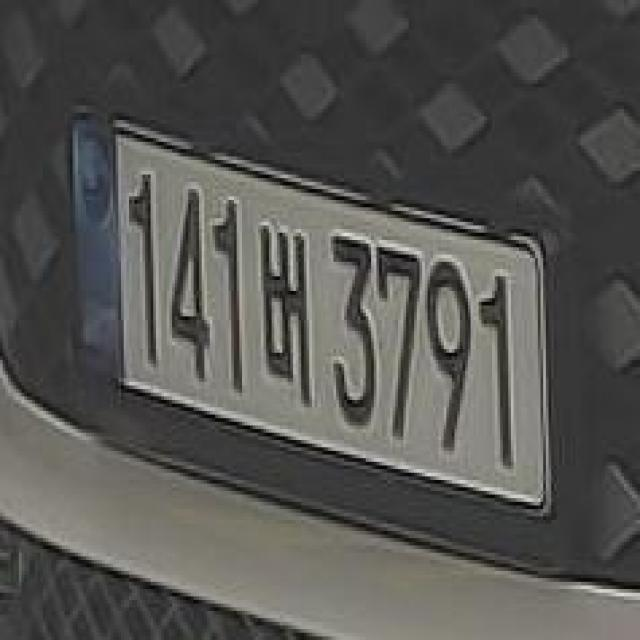illegal_plate: (61, 109, 555, 543)
